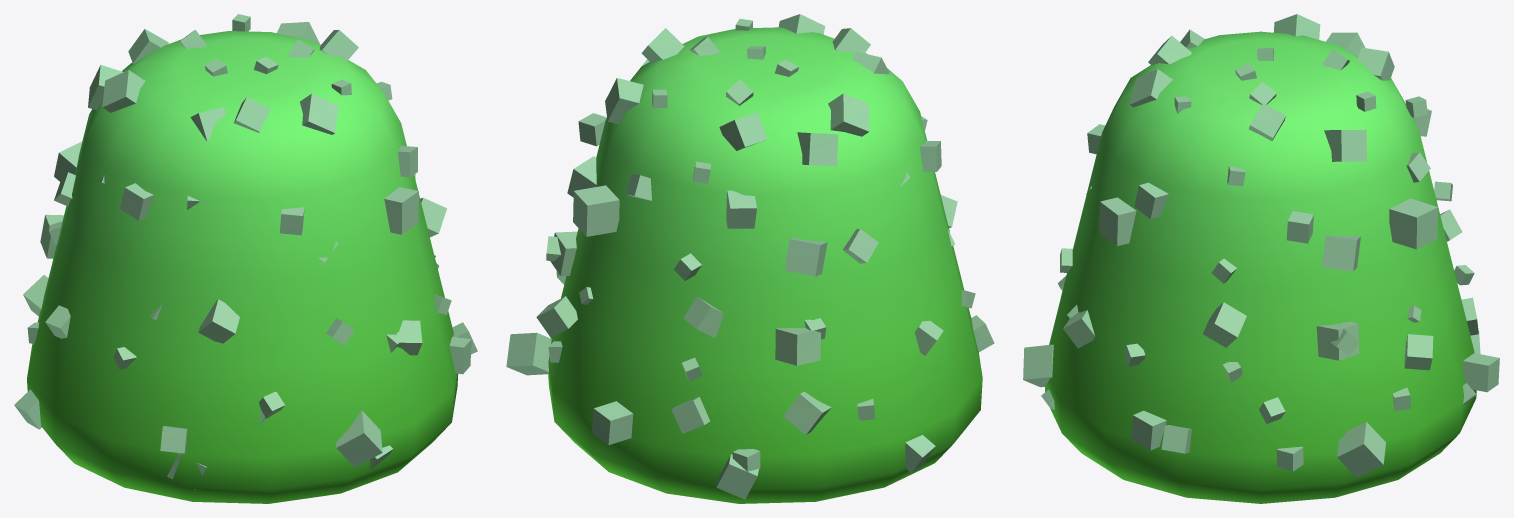
Rendered from candy_glass_19.fbx.
3 renders of one model, left to right at view 1: azimuth 30°, elevation 25°; view 2: azimuth 150°, elevation 25°; view 3: azimuth 270°, elevation 25°, orthographic.
Parts seen in each view (by area): view 1: c_g_19; view 2: c_g_19; view 3: c_g_19.
Part boxes in pixels (bbox=[...]): c_g_19: bbox=[14, 14, 477, 503]; c_g_19: bbox=[506, 14, 994, 503]; c_g_19: bbox=[1023, 14, 1499, 503].
Bounding box in the file's own units: 158 × 144 × 165.
